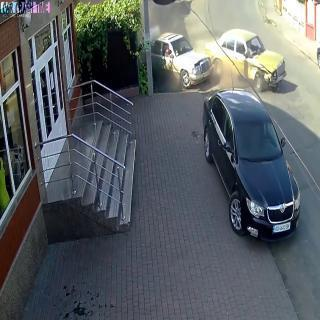multiple_accident: (162, 29, 237, 83)
